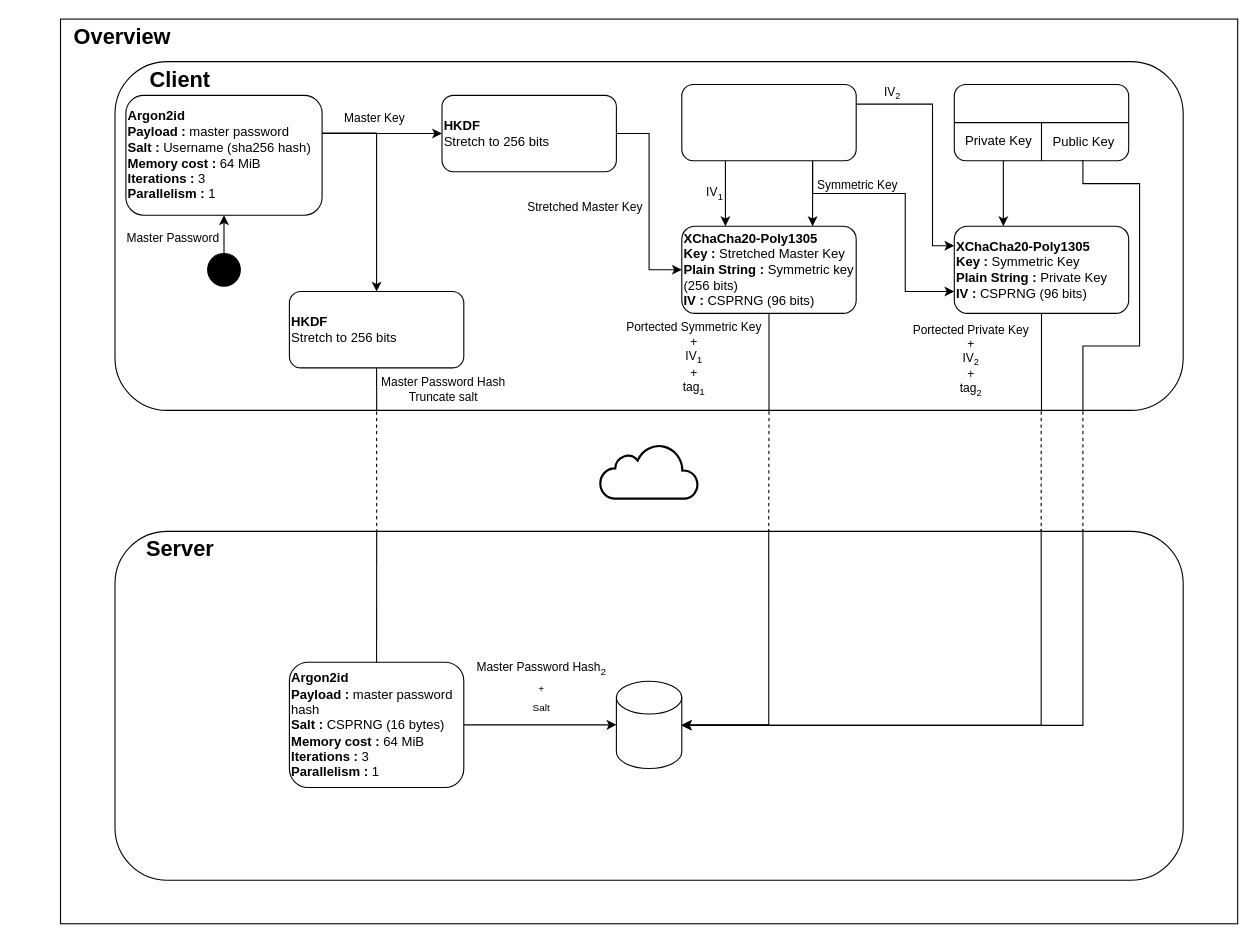
The diagram is 1257 pixels wide and 943 high, and some of its shapes have lost their labels. The shapes that lost their labels are listed below. From the top down, each one's box as (x1, y1, x2, y2) in pixels, then its label:
(681, 83, 856, 161): CSPRNG
(953, 83, 1129, 161): RSA keys gen.
(598, 443, 699, 499): https://...
